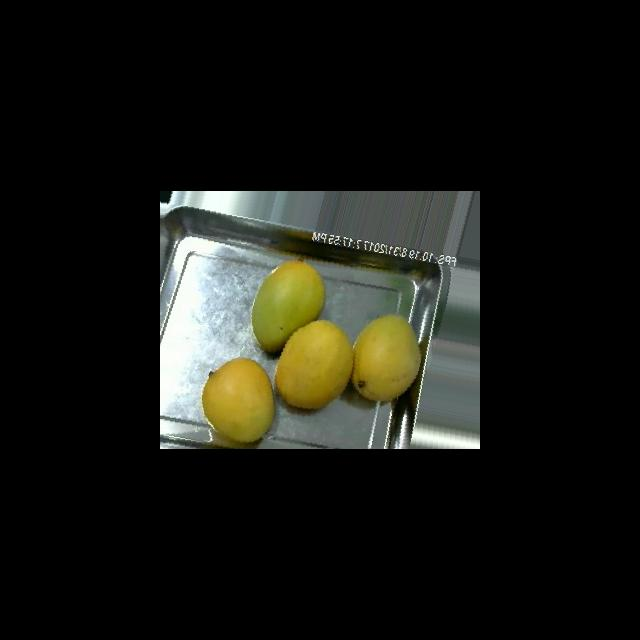Mango: (274, 319, 353, 409), (250, 259, 325, 353), (201, 356, 275, 443), (351, 314, 421, 401)
